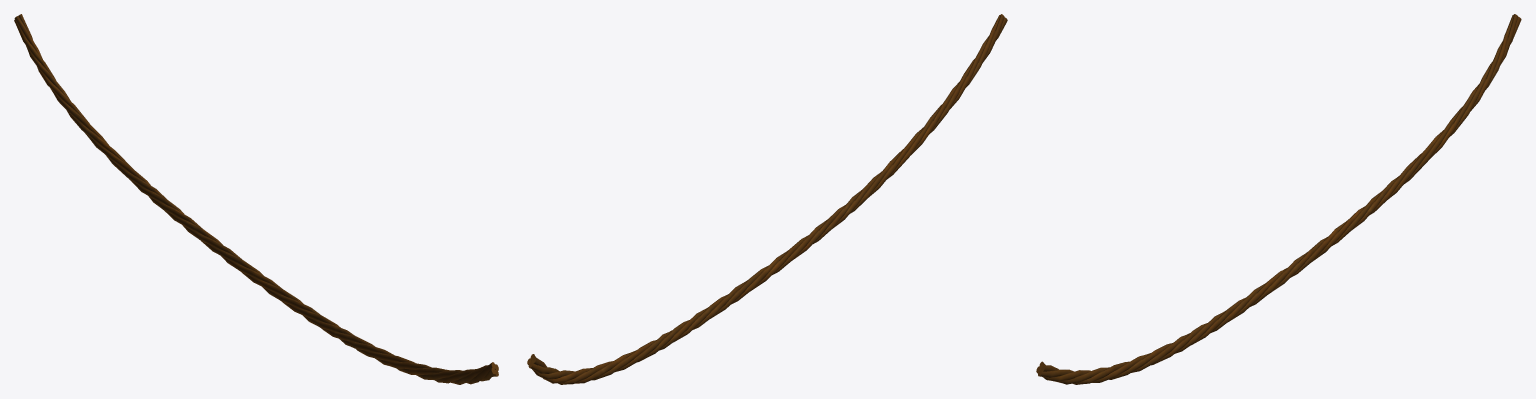
The model's file is House_HangingRope_v01.fbx.
The picture shows the model from 3 angles, left to right: view 1: azimuth 30°, elevation 25°; view 2: azimuth 150°, elevation 25°; view 3: azimuth 330°, elevation 25°; orthographic projection.
Visible parts, largest first — view 1: Hanging_Rope; view 2: Hanging_Rope; view 3: Hanging_Rope.
Boxes of the visible parts, left/top/right/bottom form: Hanging_Rope: left=14, top=14, right=498, bottom=384; Hanging_Rope: left=527, top=14, right=1007, bottom=384; Hanging_Rope: left=1036, top=14, right=1521, bottom=384.
Size of the model in its own units: 4.73 by 427 by 48.26.
1 material, 1 textured.
